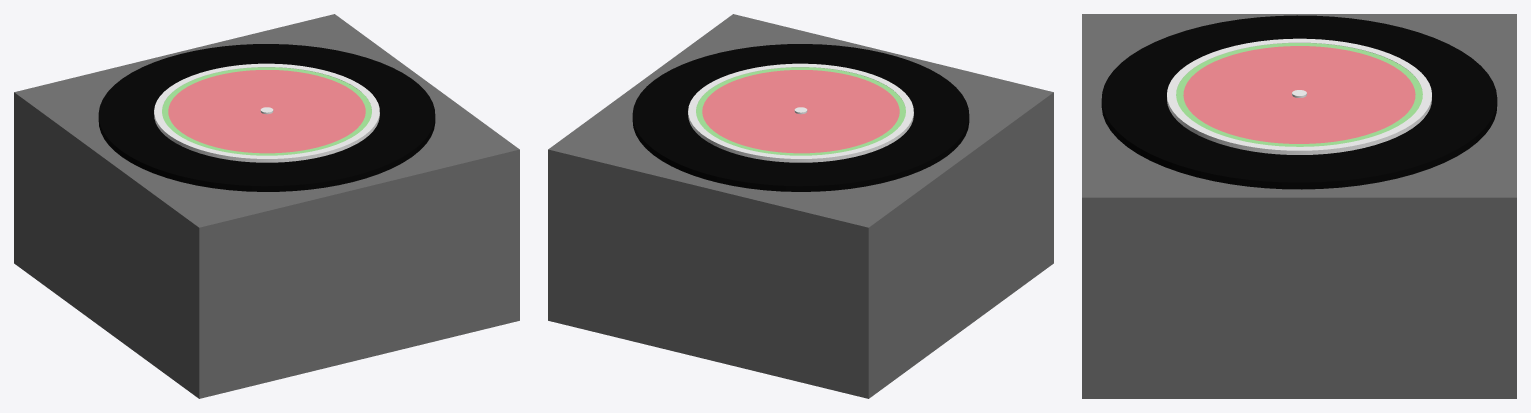
File: MUSIC.fbx
3 renders of one model, left to right at view 1: azimuth 30°, elevation 25°; view 2: azimuth 150°, elevation 25°; view 3: azimuth 270°, elevation 25°, orthographic. The views are drawn at different scales.
Visible parts, largest first — view 1: block, 图层 03, 图层 04, 图层 02; view 2: block, 图层 03, 图层 04, 图层 02; view 3: block, 图层 03, 图层 04, 图层 02.
Part boxes in pixels (box(x1,y1,x2,y2)): block: box(14, 14, 519, 398); 图层 03: box(168, 70, 365, 153); 图层 04: box(154, 63, 379, 162); 图层 02: box(162, 67, 371, 155); block: box(548, 14, 1053, 398); 图层 03: box(702, 70, 899, 153); 图层 04: box(688, 63, 913, 162); 图层 02: box(696, 67, 905, 155); block: box(1082, 14, 1516, 398); 图层 03: box(1183, 46, 1415, 143); 图层 04: box(1167, 38, 1431, 154); 图层 02: box(1176, 43, 1422, 146).
Bounding box in the file's own units: 2939 × 1596 × 2939.
